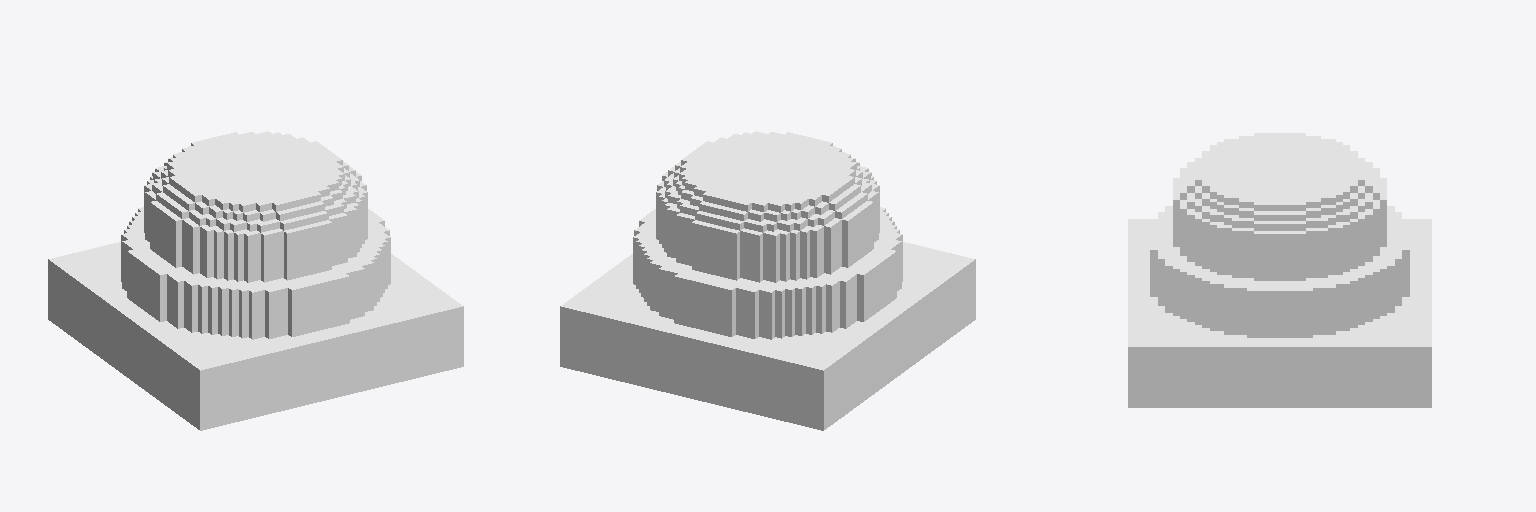
File: button_ON.obj
The picture shows the model from 3 angles: view 1: azimuth 30°, elevation 25°; view 2: azimuth 150°, elevation 25°; view 3: azimuth 270°, elevation 25°; orthographic projection.
Visible parts, largest first — view 1: object 1; view 2: object 1; view 3: object 1.
Part boxes in pixels (x1,y1,x2,y2): object 1: (48, 131, 463, 430); object 1: (560, 131, 975, 430); object 1: (1128, 133, 1431, 407).
Bounding box in the file's own units: 4.1 × 2.6 × 4.1.